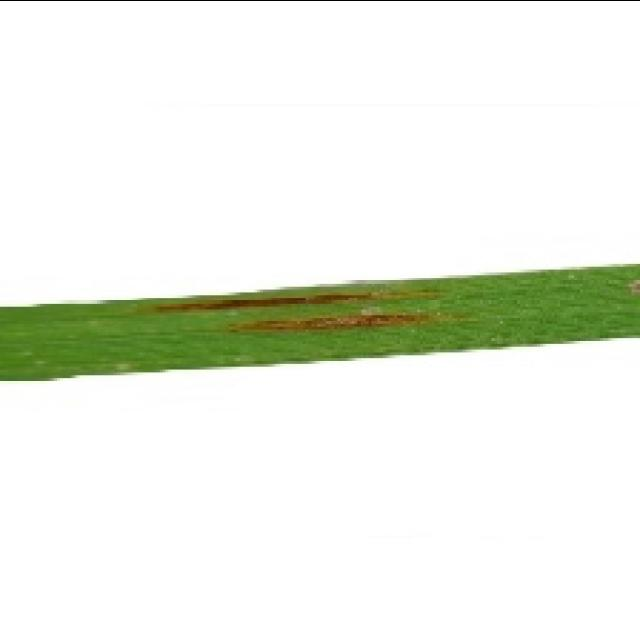Unhealthy: (137, 289, 451, 315), (226, 311, 460, 333)
